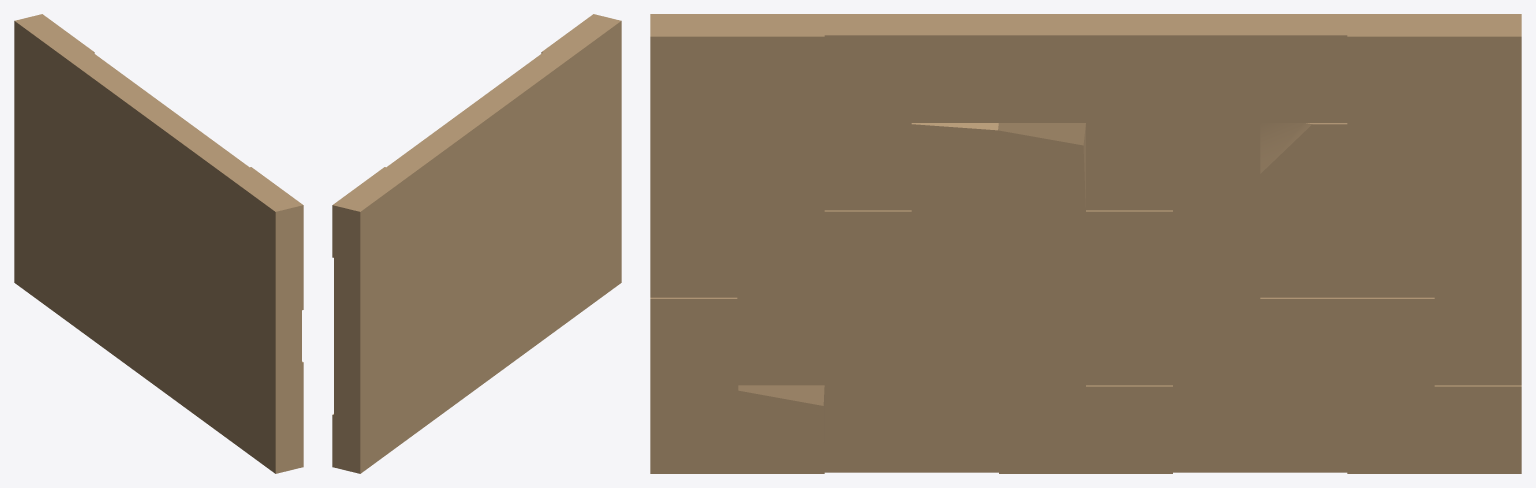
File: egypt_bigwall1.fbx
The picture shows the model from 3 angles, left to right: view 1: azimuth 30°, elevation 25°; view 2: azimuth 150°, elevation 25°; view 3: azimuth 270°, elevation 25°; orthographic projection. The views are drawn at different scales.
Parts seen in each view (by area): view 1: egypt_bigwall; view 2: egypt_bigwall; view 3: egypt_bigwall.
Part boxes in pixels (x1,y1,x2,y2): egypt_bigwall: (14,14,303,473); egypt_bigwall: (332,14,621,473); egypt_bigwall: (650,14,1521,473).
Bounding box in the file's own units: 0.7382 × 6.5 × 11.73.
1 material, 1 textured.
